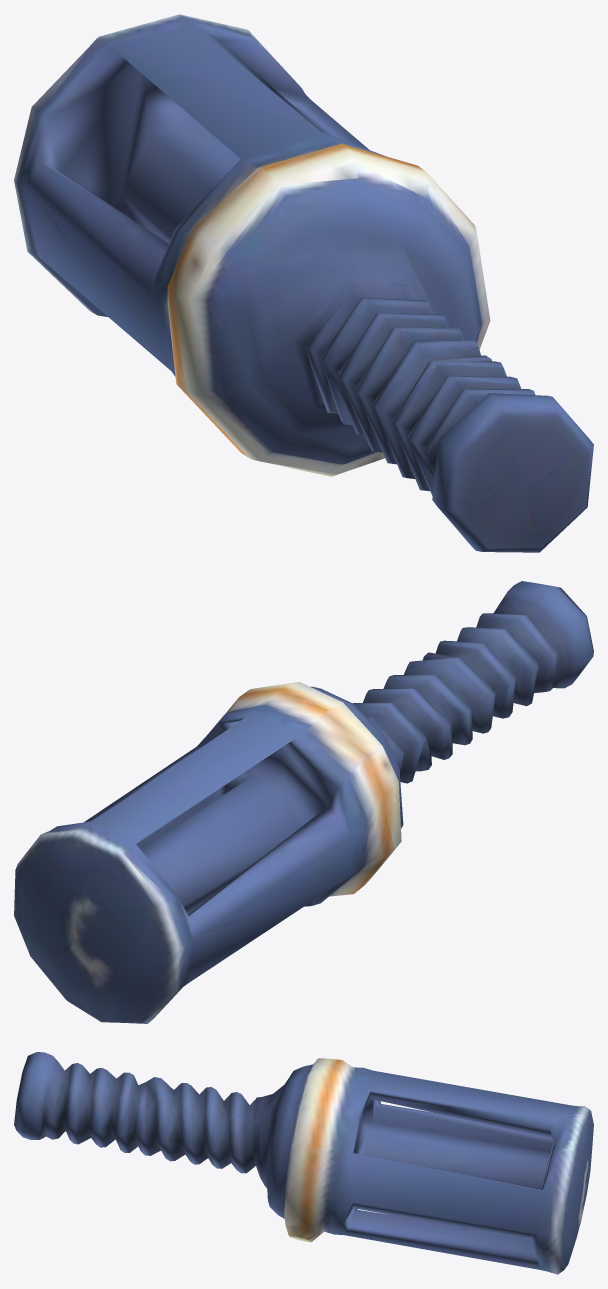
The model's file is s_short_sword.fbx.
The picture shows the model from 3 angles, top to bottom: view 1: azimuth 30°, elevation 25°; view 2: azimuth 150°, elevation 25°; view 3: azimuth 270°, elevation 25°; orthographic projection. The views are drawn at different scales.
Visible parts, largest first — view 1: tripo_node_d0c0f34c-9136-4f0c-9ebf-f00c94c6aa21; view 2: tripo_node_d0c0f34c-9136-4f0c-9ebf-f00c94c6aa21; view 3: tripo_node_d0c0f34c-9136-4f0c-9ebf-f00c94c6aa21.
Part boxes in pixels (x1=…): tripo_node_d0c0f34c-9136-4f0c-9ebf-f00c94c6aa21: x1=14, y1=14, x2=593, y2=552; tripo_node_d0c0f34c-9136-4f0c-9ebf-f00c94c6aa21: x1=14, y1=581, x2=593, y2=1023; tripo_node_d0c0f34c-9136-4f0c-9ebf-f00c94c6aa21: x1=14, y1=1052, x2=593, y2=1274.
Size of the model in its own units: 0.4029 by 0.367 by 1.06.
Materials: 1 (1 with a texture image).
